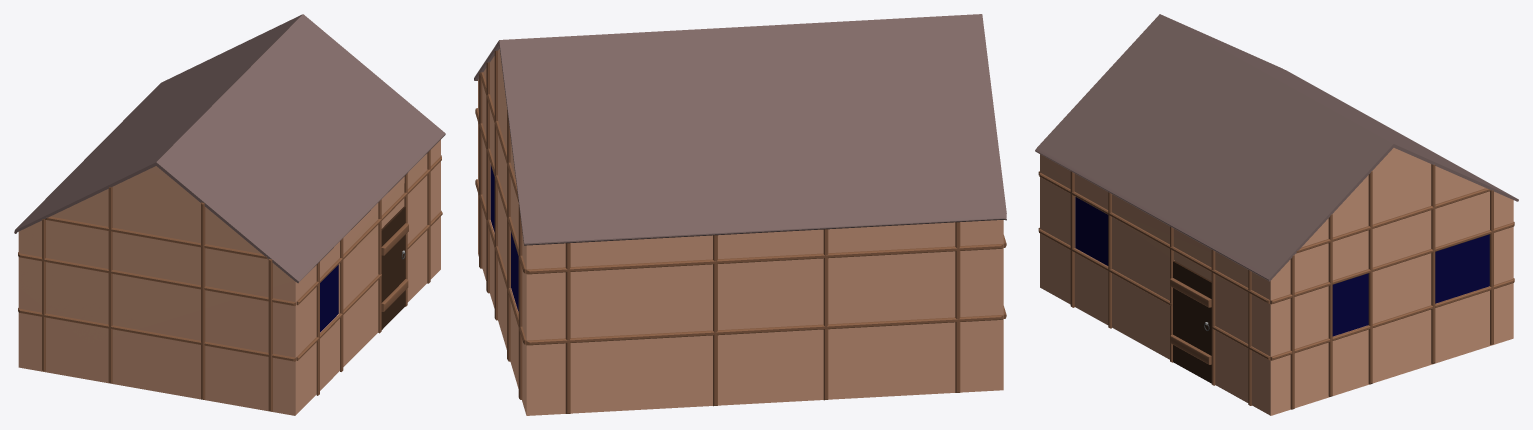
File: VillagerHouseSmall.fbx
3 views of the same model, side by side, from view 1: azimuth 30°, elevation 25°; view 2: azimuth 150°, elevation 25°; view 3: azimuth 270°, elevation 25° (orthographic). The views are drawn at different scales.
Visible parts, largest first — view 1: House2_House2_polySurface12, Door2, HorizontalWoodPanel4, HorizontalWoodPanel3, HorizontalWoodPanel2, VerticalWoodPanel8, Window1, VerticalWoodPanel9, HorizontalWoodPanel14, VerticalWoodPanel7, VerticalWoodPanel10, VerticalWoodPanel18 (+4 smaller); view 2: House2_House2_polySurface12, HorizontalWoodPanel5, HorizontalWoodPanel6, VerticalWoodPanel6, VerticalWoodPanel12, VerticalWoodPanel13, VerticalWoodPanel14, VerticalWoodPanel5, VerticalWoodPanel4, VerticalWoodPanel16, VerticalWoodPanel15, VerticalWoodPanel3 (+3 smaller); view 3: House2_House2_polySurface12, Door2, Window2, Window3, Window1, HorizontalWoodPanel14, HorizontalWoodPanel7, HorizontalWoodPanel8, VerticalWoodPanel6, VerticalWoodPanel5, HorizontalWoodPanel1, VerticalWoodPanel16 (+7 smaller).
Boxes of the visible parts, x1=… form: House2_House2_polySurface12: x1=14, y1=14, x2=445, y2=415; Door2: x1=381, y1=206, x2=408, y2=329; HorizontalWoodPanel4: x1=18, y1=308, x2=295, y2=361; HorizontalWoodPanel3: x1=18, y1=253, x2=295, y2=305; HorizontalWoodPanel2: x1=45, y1=216, x2=267, y2=259; VerticalWoodPanel8: x1=201, y1=202, x2=205, y2=399; Window1: x1=320, y1=265, x2=338, y2=332; VerticalWoodPanel9: x1=108, y1=187, x2=112, y2=383; HorizontalWoodPanel14: x1=296, y1=156, x2=441, y2=305; VerticalWoodPanel7: x1=268, y1=259, x2=272, y2=411; VerticalWoodPanel10: x1=42, y1=219, x2=45, y2=370; VerticalWoodPanel18: x1=340, y1=238, x2=343, y2=371; House2_House2_polySurface12: x1=474, y1=14, x2=1006, y2=415; HorizontalWoodPanel5: x1=526, y1=315, x2=1003, y2=345; HorizontalWoodPanel6: x1=526, y1=244, x2=1003, y2=274; VerticalWoodPanel6: x1=494, y1=50, x2=497, y2=320; VerticalWoodPanel12: x1=565, y1=243, x2=570, y2=413; VerticalWoodPanel13: x1=823, y1=229, x2=828, y2=400; VerticalWoodPanel14: x1=955, y1=222, x2=960, y2=392; VerticalWoodPanel5: x1=507, y1=109, x2=510, y2=361; VerticalWoodPanel4: x1=518, y1=204, x2=522, y2=399; VerticalWoodPanel16: x1=486, y1=62, x2=489, y2=293; VerticalWoodPanel15: x1=713, y1=235, x2=717, y2=406; VerticalWoodPanel3: x1=479, y1=74, x2=482, y2=268; House2_House2_polySurface12: x1=1035, y1=14, x2=1518, y2=415; Door2: x1=1170, y1=261, x2=1211, y2=383; Window2: x1=1435, y1=234, x2=1489, y2=303; Window3: x1=1332, y1=273, x2=1368, y2=336; Window1: x1=1075, y1=197, x2=1108, y2=265; HorizontalWoodPanel14: x1=1039, y1=173, x2=1269, y2=303; HorizontalWoodPanel7: x1=1270, y1=279, x2=1514, y2=360; HorizontalWoodPanel8: x1=1270, y1=222, x2=1514, y2=304; VerticalWoodPanel6: x1=1368, y1=171, x2=1372, y2=384; VerticalWoodPanel5: x1=1431, y1=164, x2=1435, y2=363; HorizontalWoodPanel1: x1=1296, y1=188, x2=1490, y2=253; VerticalWoodPanel16: x1=1328, y1=214, x2=1332, y2=396.
Bounding box in the file's own units: 9.79 × 5.09 × 9.52.
